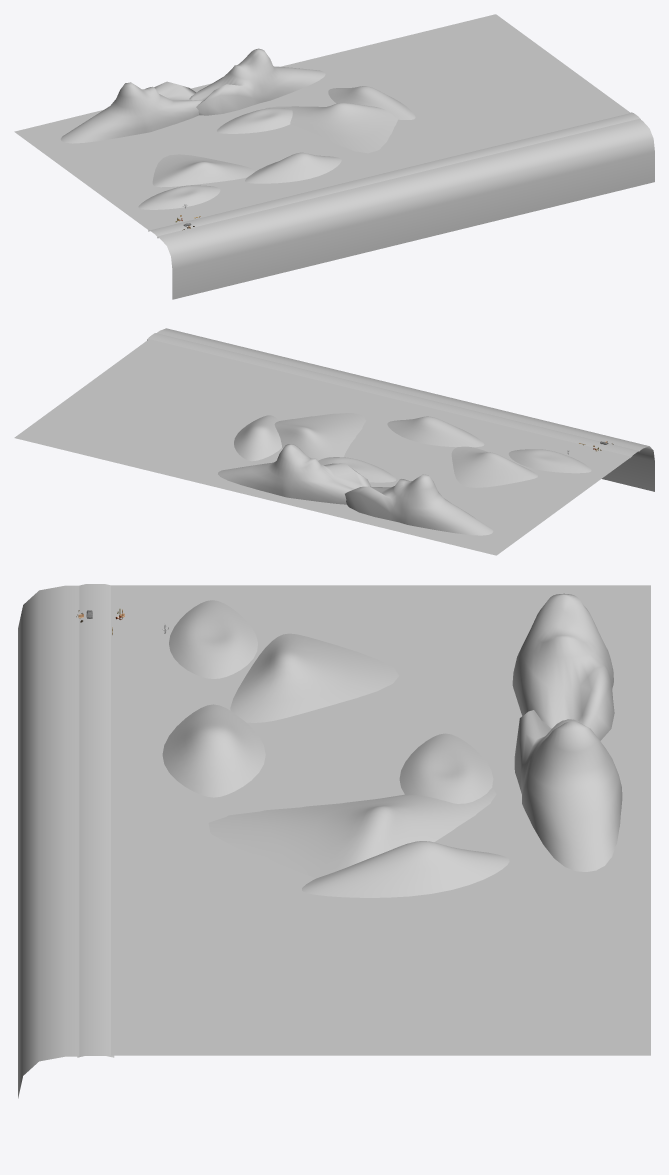
Rendered from road 3d.FBX.
3 renders of one model, top to bottom at view 1: azimuth 30°, elevation 25°; view 2: azimuth 150°, elevation 25°; view 3: azimuth 270°, elevation 25°, orthographic. The views are drawn at different scales.
Visible parts, largest first — view 1: sand2, sand, rock, asphalt, dune5, dune2, dune3, dune6, dune4, dune; view 2: sand2, rock, sand, asphalt, dune5, dune2, dune3, dune6, dune, dune4; view 3: sand2, sand, rock, asphalt, dune5, dune2, dune6, dune3, dune, dune4.
Part boxes in pixels (x1,y1,x2,y2): sand2: (14, 14, 630, 230); sand: (157, 118, 654, 299); rock: (60, 48, 325, 143); asphalt: (148, 112, 640, 238); dune5: (264, 103, 397, 153); dune2: (152, 154, 255, 187); dune3: (245, 152, 341, 183); dune6: (328, 86, 415, 119); dune4: (217, 108, 292, 133); dune: (138, 185, 220, 209); sand2: (14, 339, 631, 555); rock: (218, 444, 493, 535); sand: (156, 328, 654, 491); asphalt: (147, 333, 639, 458); dune5: (274, 413, 365, 460); dune2: (451, 446, 537, 487); dune3: (387, 416, 484, 447); dune6: (234, 415, 281, 461); dune: (508, 449, 591, 473); dune4: (318, 457, 396, 482); sand2: (111, 585, 650, 1055); sand: (18, 585, 79, 1098); rock: (512, 593, 622, 871); asphalt: (77, 584, 114, 1057); dune5: (208, 788, 496, 878); dune2: (230, 633, 398, 722); dune6: (302, 841, 509, 897); dune3: (162, 704, 265, 797); dune: (169, 600, 257, 678); dune4: (399, 733, 493, 803).
Bounding box in the file's own units: 6996 × 1297 × 3969.
